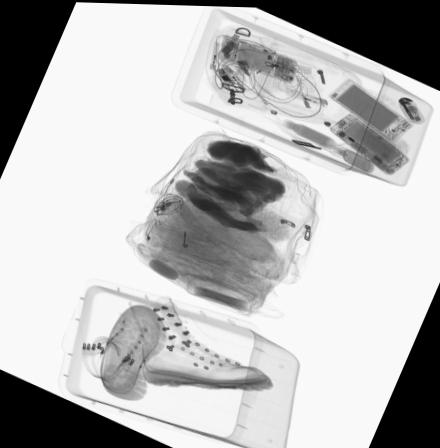Lighter: (284, 85, 327, 107)
